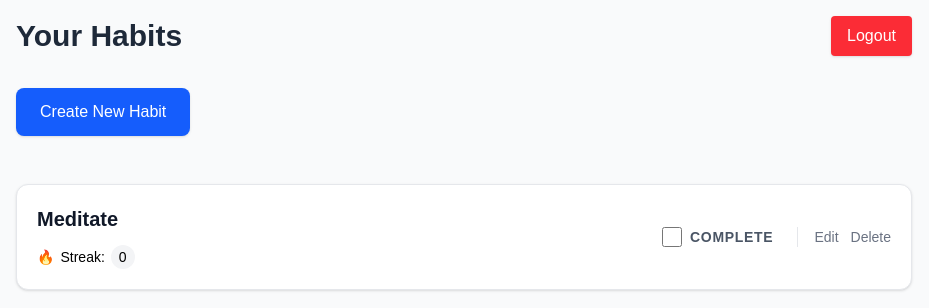
Scenario: habit form › toggles completion and updates the streak display
This screenshot has width=929, height=308.
Expected: the text with test id "habit-streak-meditate" reads "0", [119,249,127,265]
Step 1. Click the checkbox with test id "habit-complete-meditate" → (672, 237), box [662,227,682,247]
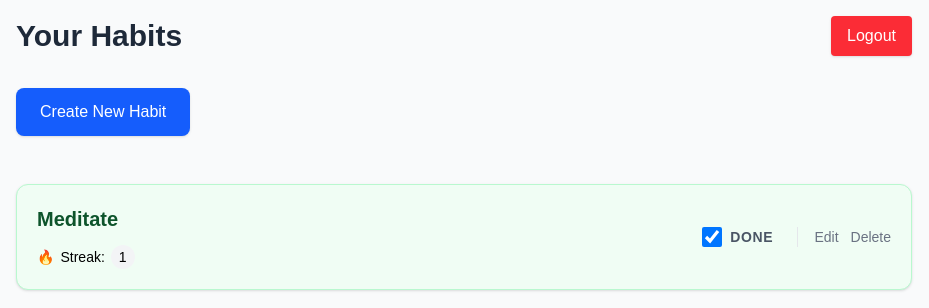
Result: the text with test id "habit-streak-meditate" reads "1" at [119,249,127,265]
